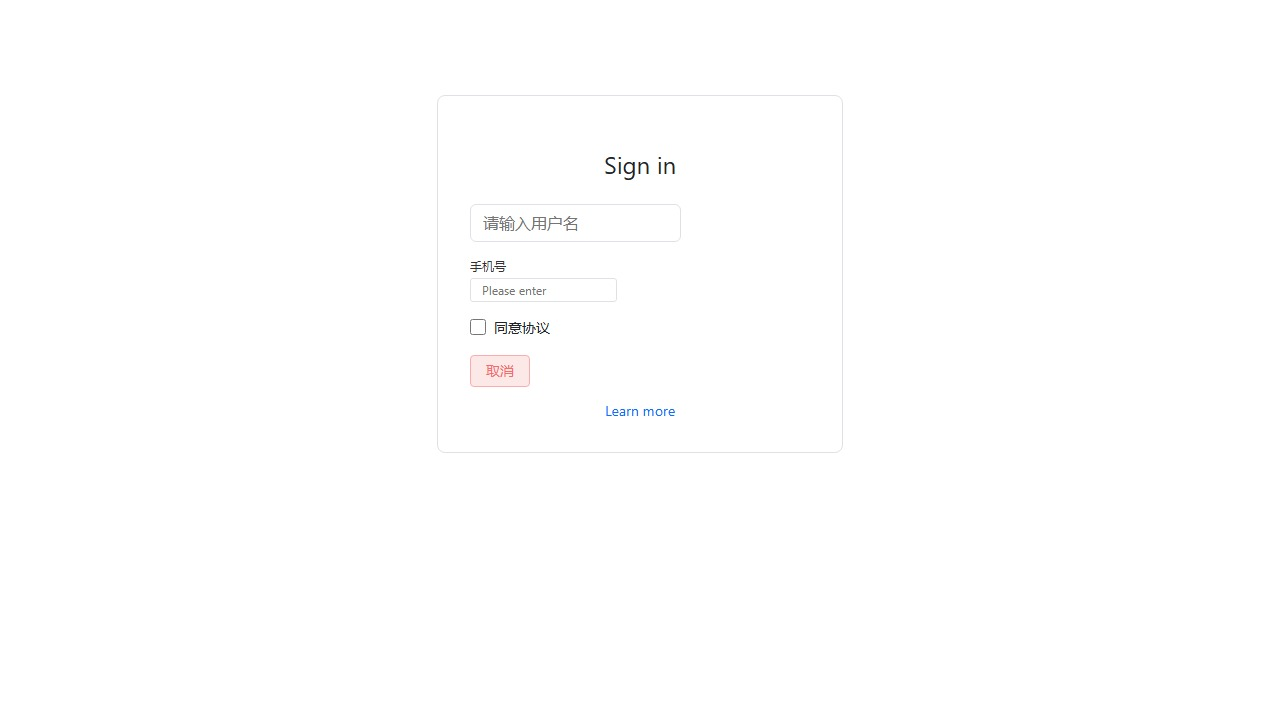button: (470, 355, 530, 387)
checkbox: (470, 319, 486, 335)
icon: (494, 318, 550, 337)
input: (470, 204, 681, 242), (470, 278, 617, 302)
link: (605, 401, 675, 420)
radio: (470, 318, 550, 337)
